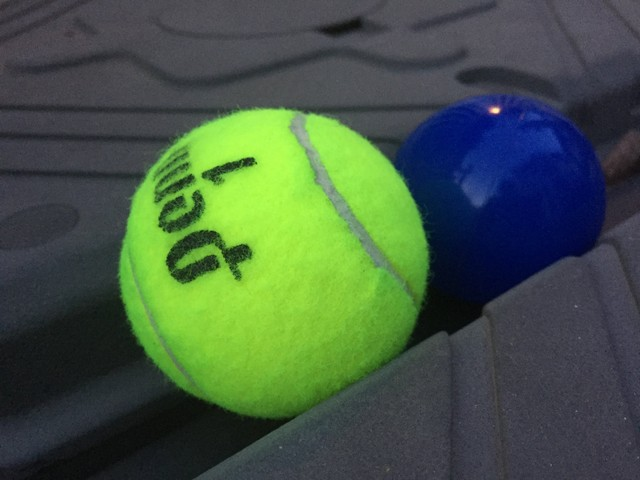Ball: (391, 95, 605, 300)
